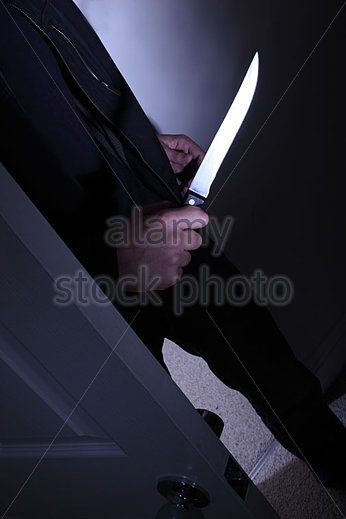knife: (158, 45, 266, 282)
